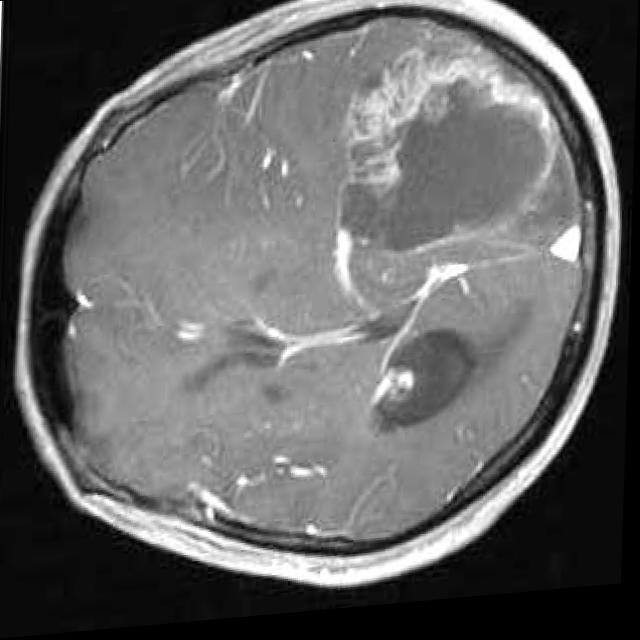Tumor: (334, 56, 561, 317), (376, 338, 471, 440)
